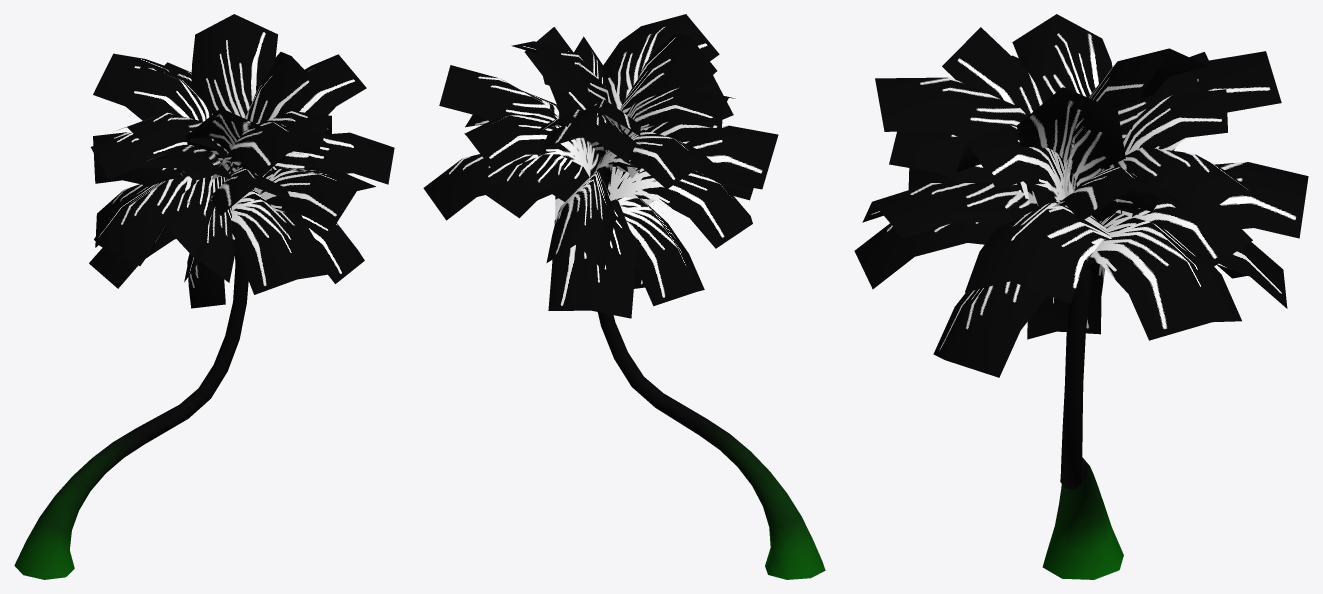
The model's file is P_CoconutPalmB02.obj.
The picture shows the model from 3 angles, left to right: view 1: azimuth 30°, elevation 25°; view 2: azimuth 150°, elevation 25°; view 3: azimuth 270°, elevation 25°; orthographic projection. The views are drawn at different scales.
Bounding box in the file's own units: 8.2 × 10.73 × 6.64.
